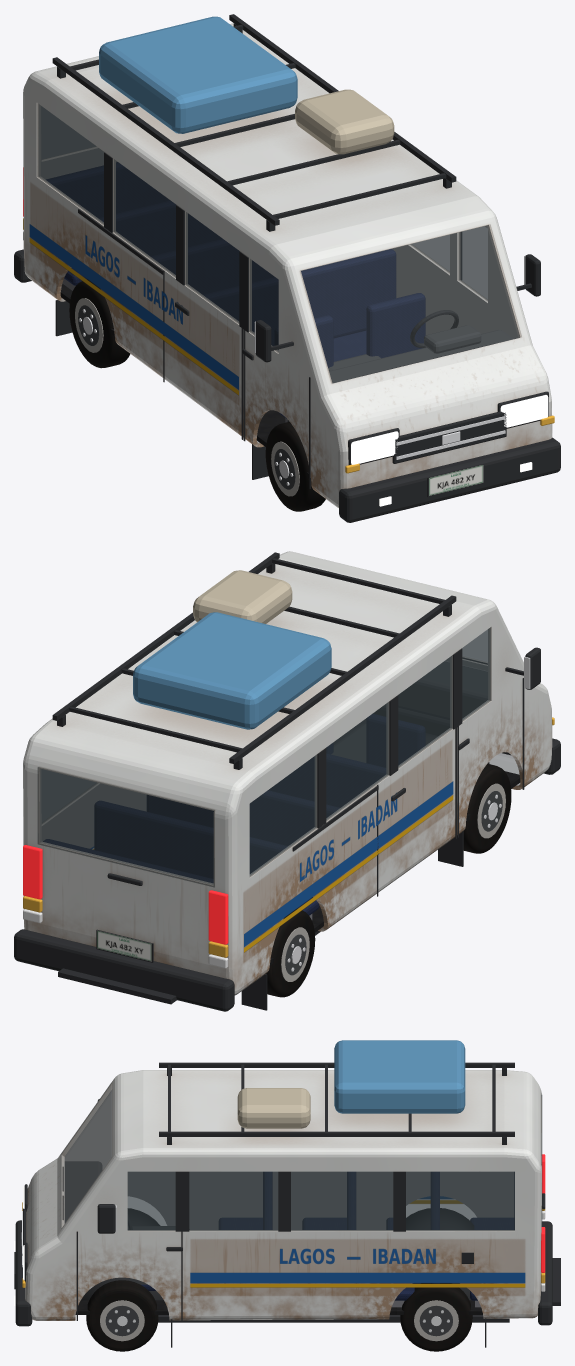
The model's file is hiace.glb.
3 renders of one model, top to bottom at view 1: azimuth 30°, elevation 25°; view 2: azimuth 150°, elevation 25°; view 3: azimuth 270°, elevation 25°, orthographic. The views are drawn at different scales.
Parts seen in each view (by area): view 1: body, hiace_root_black_plastic, glass_windscreen, interior_seat_fabric, hiace_root_glass, luggage_tarp, hiace_body_inner, hiace_root_livery, luggage_sack, interior_dashboard, hiace_root_headlamp_lens, wheel_FR_tyre (+4 smaller); view 2: body, hiace_root_glass, hiace_root_black_plastic, interior_seat_fabric, luggage_tarp, hiace_root_livery, interior_dashboard, luggage_sack, hiace_body_inner, hiace_root_tail_red, wheel_FR_tyre, wheel_RR_tyre (+4 smaller); view 3: body, hiace_root_glass, hiace_body_inner, hiace_root_black_plastic, luggage_tarp, hiace_root_livery, glass_windscreen, interior_seat_fabric, luggage_sack, wheel_FL_tyre, wheel_RL_tyre, interior_dashboard (+5 smaller).
Part boxes in pixels (x1,y1,x2,y2): body: (23, 23, 552, 507); hiace_root_black_plastic: (14, 14, 560, 522); glass_windscreen: (300, 225, 521, 382); interior_seat_fabric: (46, 162, 425, 418); hiace_root_glass: (37, 103, 487, 352); luggage_tarp: (99, 16, 297, 133); hiace_body_inner: (41, 134, 518, 443); hiace_root_livery: (29, 224, 238, 395); luggage_sack: (295, 89, 394, 154); interior_dashboard: (328, 325, 513, 383); hiace_root_headlamp_lens: (351, 395, 548, 506); wheel_FR_tyre: (265, 421, 325, 511); body: (23, 551, 552, 995); hiace_root_glass: (37, 627, 490, 887); hiace_root_black_plastic: (14, 552, 560, 1011); interior_seat_fabric: (43, 714, 425, 915); luggage_tarp: (133, 612, 331, 729); hiace_root_livery: (90, 781, 453, 952); interior_dashboard: (331, 661, 487, 762); luggage_sack: (193, 570, 292, 623); hiace_body_inner: (42, 657, 520, 848); hiace_root_tail_red: (23, 845, 228, 944); wheel_FR_tyre: (463, 763, 511, 853); wheel_RR_tyre: (266, 908, 315, 997); body: (25, 1070, 541, 1320); hiace_root_glass: (127, 1095, 542, 1230); hiace_body_inner: (64, 1089, 513, 1229); hiace_root_black_plastic: (14, 1062, 560, 1347); luggage_tarp: (334, 1040, 465, 1113); hiace_root_livery: (190, 1196, 525, 1287); glass_windscreen: (61, 1082, 111, 1227); interior_seat_fabric: (141, 1172, 514, 1300); luggage_sack: (237, 1088, 310, 1128); wheel_FL_tyre: (86, 1280, 158, 1351); wheel_RL_tyre: (400, 1283, 472, 1351); interior_dashboard: (64, 1161, 189, 1229).
Bounding box in the file's own units: 2.44 × 2.58 × 5.23.
Materials: 20 (6 with a texture image).
